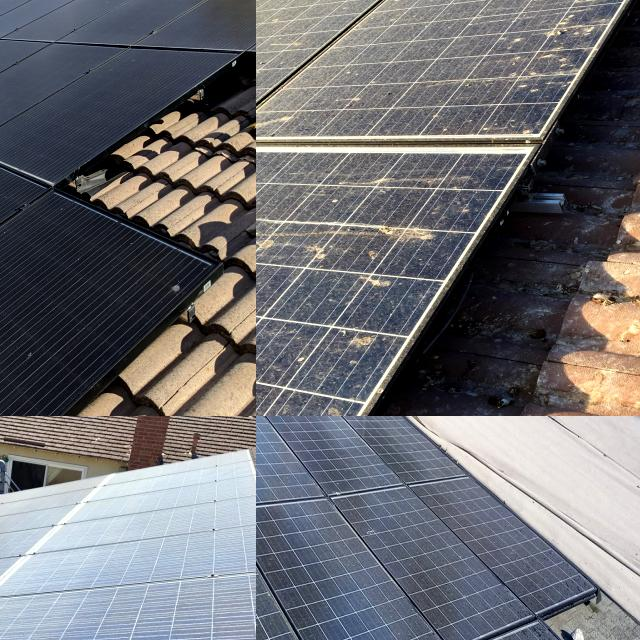bird: (348, 210, 465, 252), (537, 0, 589, 81), (312, 322, 414, 360), (256, 230, 341, 269), (256, 394, 299, 416)
dust: (0, 242, 128, 384), (0, 593, 256, 640), (320, 489, 397, 640), (418, 489, 473, 640), (256, 513, 290, 640)
